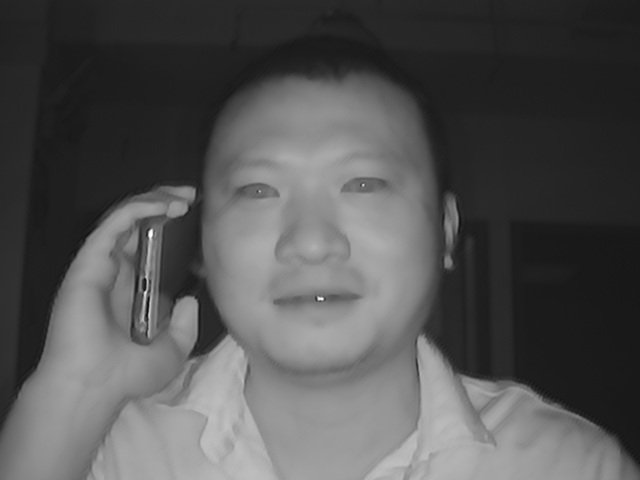hand: (47, 179, 203, 399)
